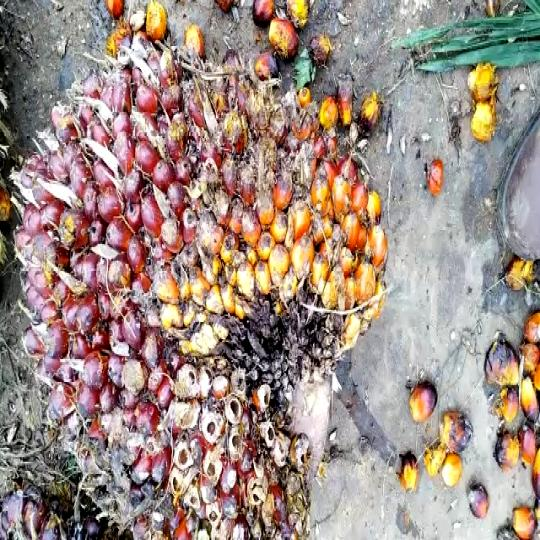kurang masak: (17, 35, 377, 540)
